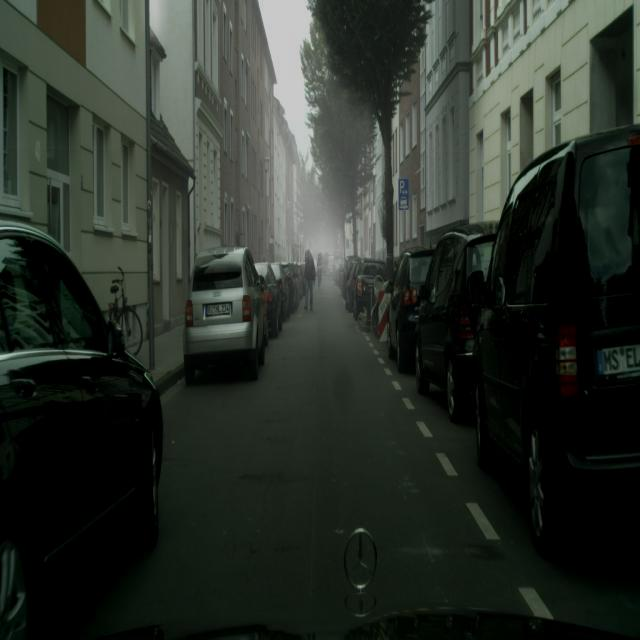car: (107, 265, 143, 356)
person: (304, 249, 316, 311)
truck: (471, 123, 640, 556), (1, 219, 164, 632), (413, 223, 497, 424), (183, 244, 269, 384), (387, 247, 436, 371), (352, 258, 387, 325), (256, 261, 284, 338), (372, 259, 397, 338), (343, 257, 362, 312), (280, 262, 299, 313), (278, 262, 294, 317), (341, 258, 353, 304), (339, 259, 349, 290), (332, 258, 343, 286)
